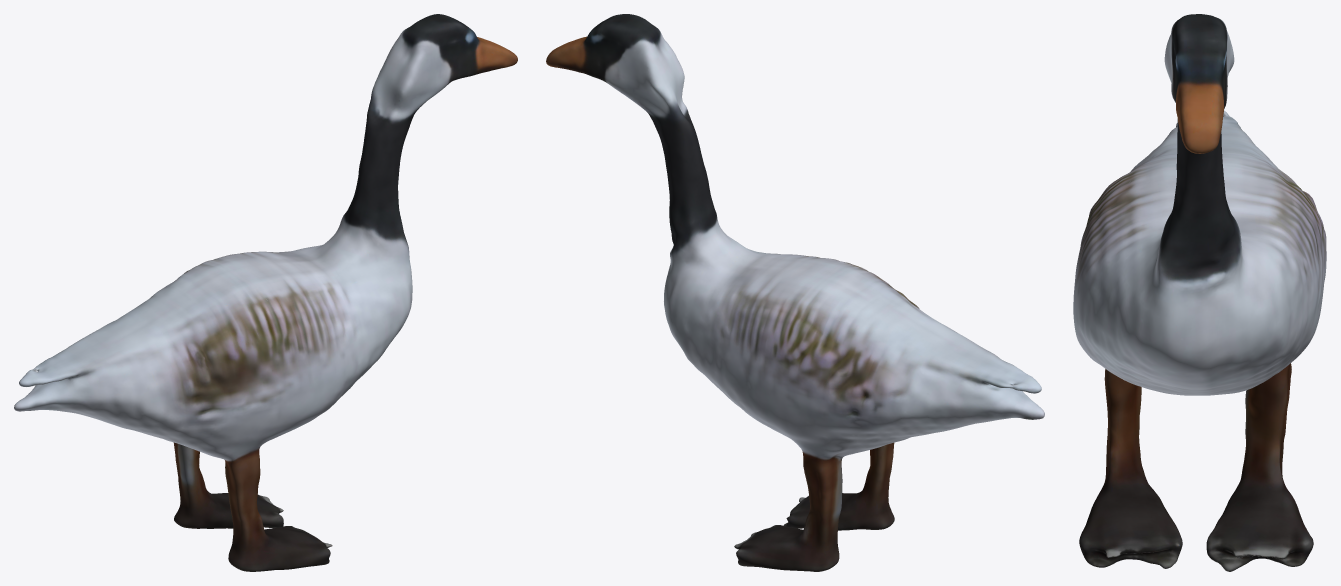
The model's file is a44d4f1f30b7_geese__3d_asset_0_glb.glb.
3 views of the same model, side by side, from view 1: azimuth 30°, elevation 25°; view 2: azimuth 150°, elevation 25°; view 3: azimuth 270°, elevation 25° (orthographic). The views are drawn at different scales.
Parts seen in each view (by area): view 1: world; view 2: world; view 3: world.
Part boxes in pixels (x1,y1,x2,y2): world: [14, 14, 517, 571]; world: [546, 14, 1044, 571]; world: [1073, 14, 1326, 571].
Size of the model in its own units: 0.5065 by 0.4688 by 0.1667.
Materials: 1 (1 with a texture image).
